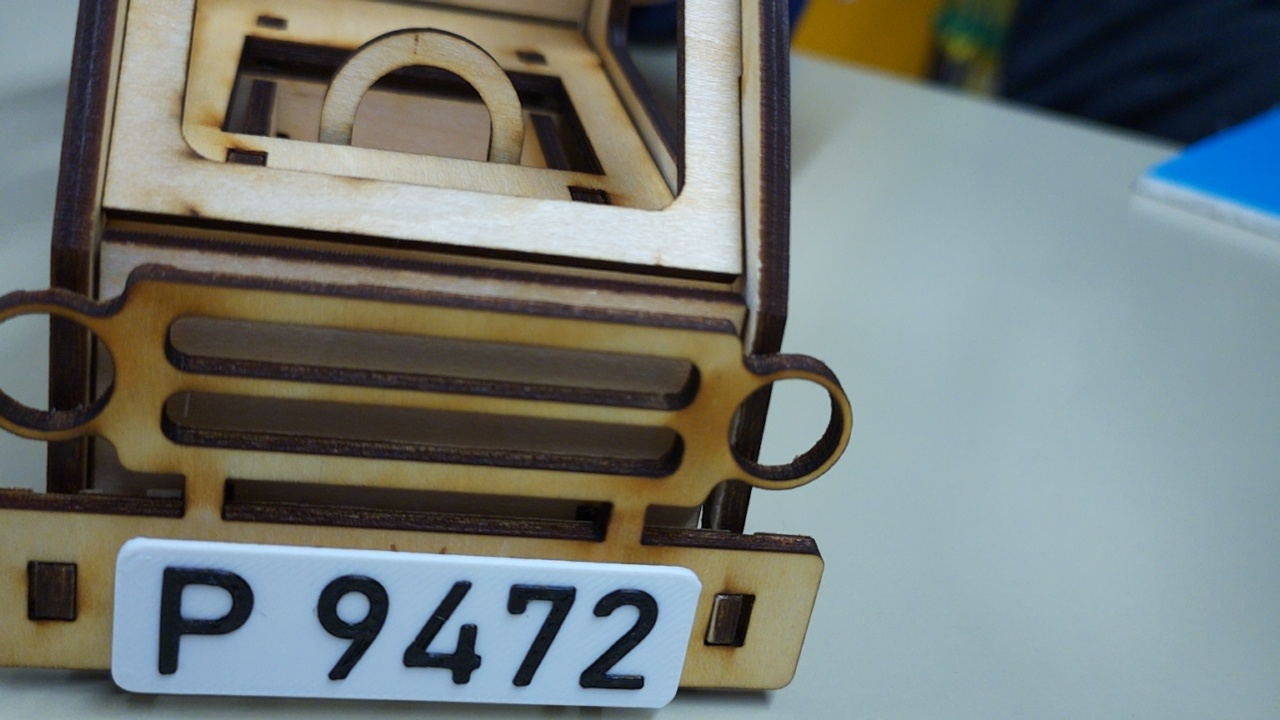license_plate: (106, 534, 702, 712)
